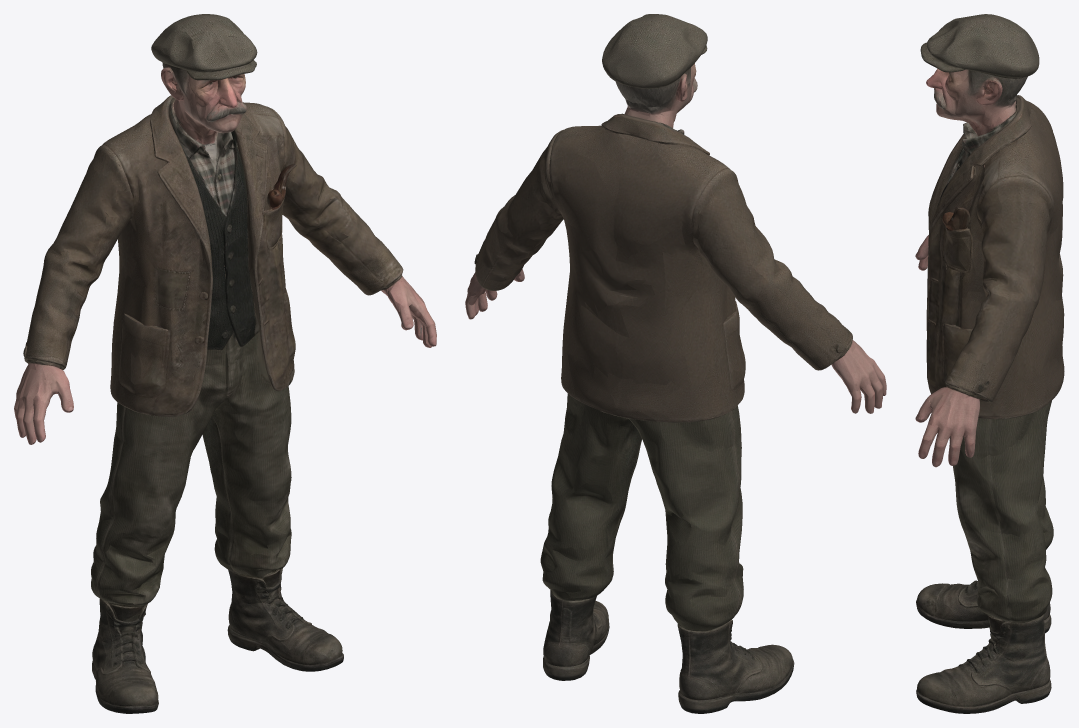
Rendered from civilian_man.glb.
3 renders of one model, left to right at view 1: azimuth 30°, elevation 25°; view 2: azimuth 150°, elevation 25°; view 3: azimuth 270°, elevation 25°, orthographic. The views are drawn at different scales.
Bounding box in the file's own units: 1.24 × 1.9 × 0.4002.
1 material, 1 textured.
